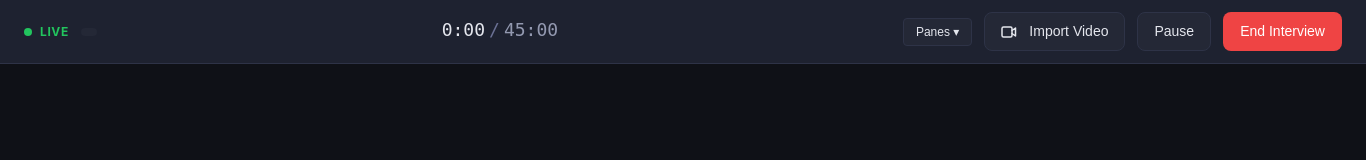
SessionBar › ignores End Interview clicks while ending is in flight
This screenshot has width=1366, height=160.
Click the button "End Interview": (1283, 32) left=1223, top=12, right=1342, bottom=51
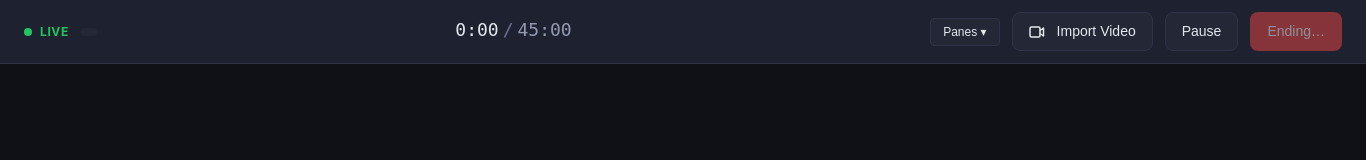
Expected: the button "Ending…" is disabled
Click the button "Ending…": (1296, 32) left=1250, top=12, right=1342, bottom=51
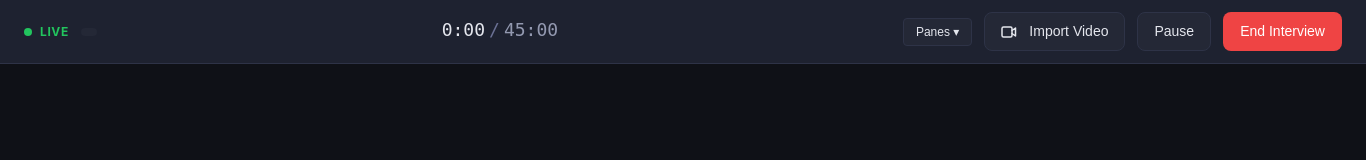
Expected: the button "End Interview" is enabled, left=1223, top=12, right=1342, bottom=51
